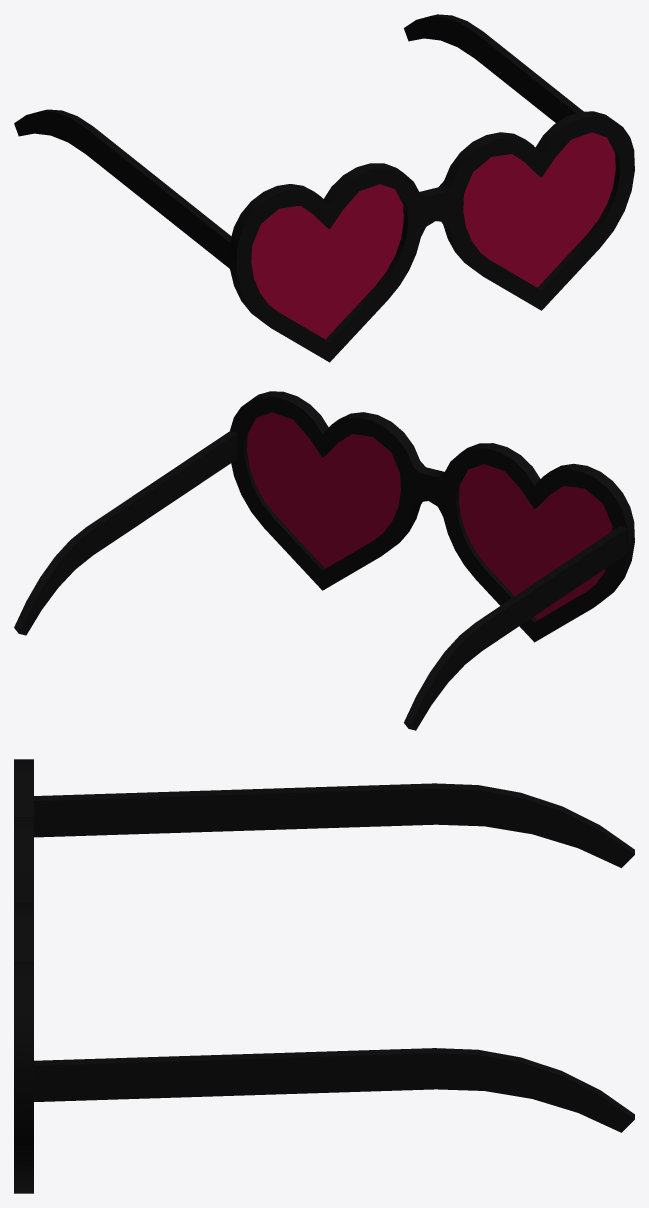
File: Spects_4.FBX
The picture shows the model from 3 angles, top to bottom: view 1: azimuth 30°, elevation 25°; view 2: azimuth 150°, elevation 25°; view 3: azimuth 270°, elevation 25°; orthographic projection. The views are drawn at different scales.
Parts seen in each view (by area): view 1: 20200930 ハートのサングラス フレーム; view 2: 20200930 ハートのサングラス フレーム; view 3: 20200930 ハートのサングラス フレーム.
Boxes of the visible parts, x1,y1,x2,y2 form: 20200930 ハートのサングラス フレーム: (14,14,634,362); 20200930 ハートのサングラス フレーム: (14,391,634,730); 20200930 ハートのサングラス フレーム: (14,759,634,1193).
Size of the model in its own units: 25.59 by 11.19 by 24.8.
